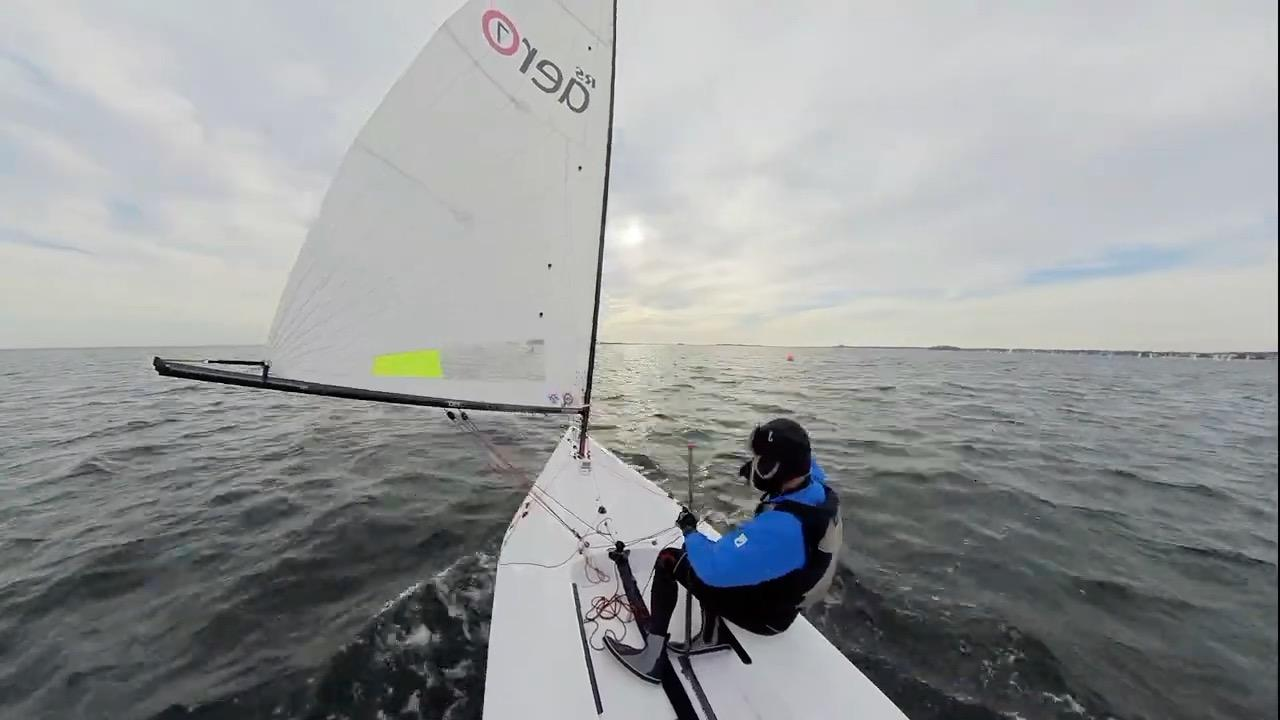boat: (153, 0, 912, 720)
sea: (592, 344, 1277, 720), (0, 346, 545, 720)
sky: (600, 0, 1278, 353), (0, 0, 469, 350)
